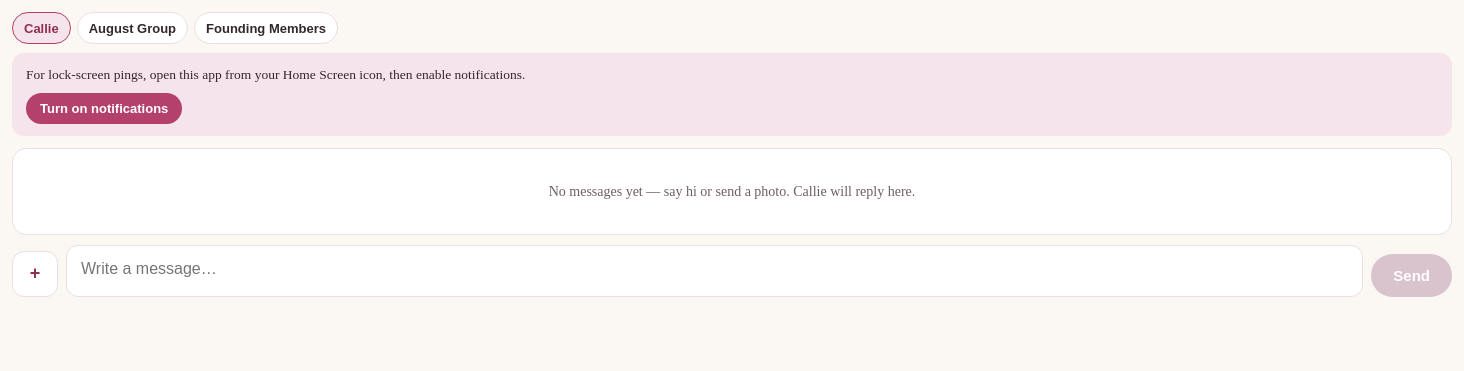
it: opening the Messages tab › loads a group once when its pill is tapped, and not again on return
Click the button "August Group" at (132, 28), box [77,12,188,44]
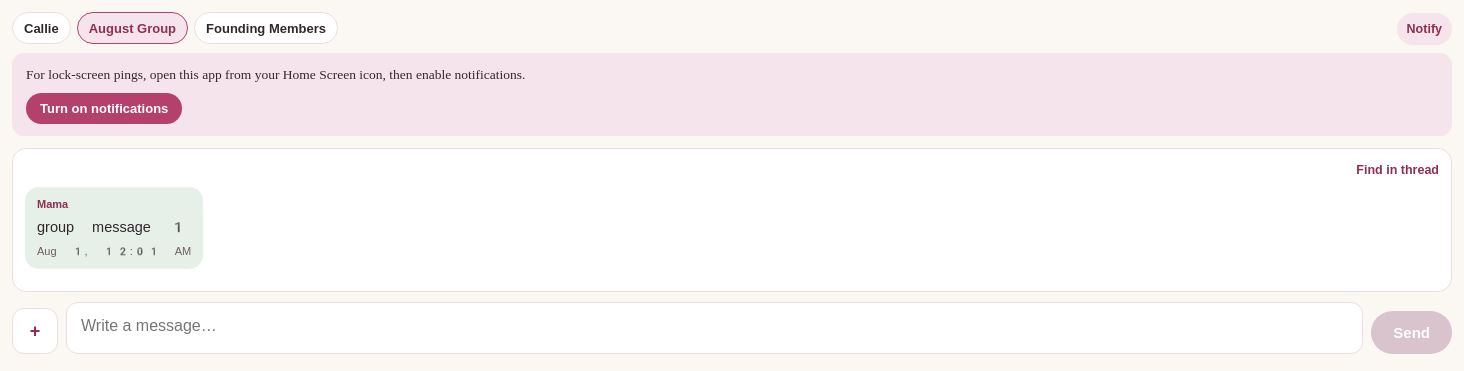
Click the button "Callie" at (41, 28), box [12,12,71,44]
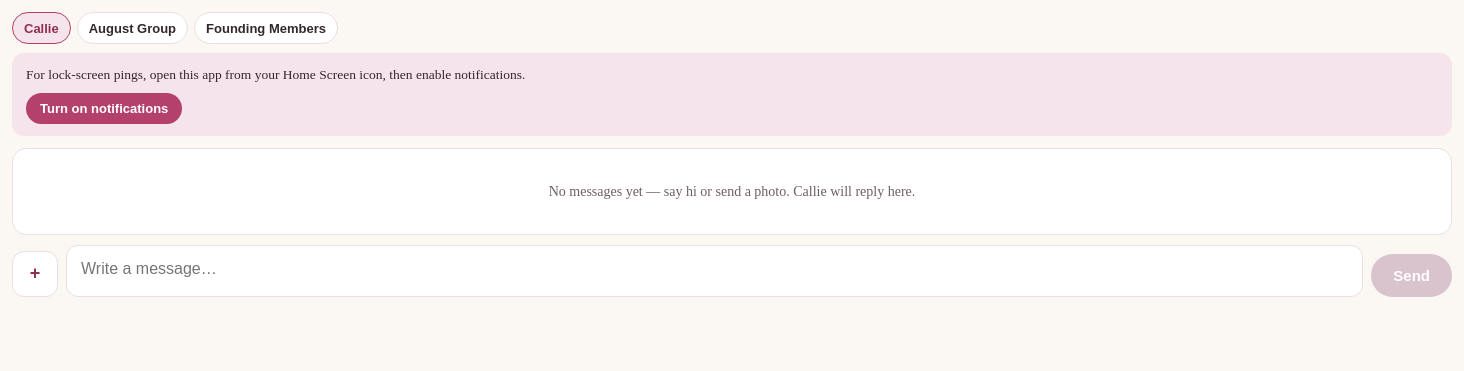
Click the button "August Group" at (132, 28), box [77,12,188,44]
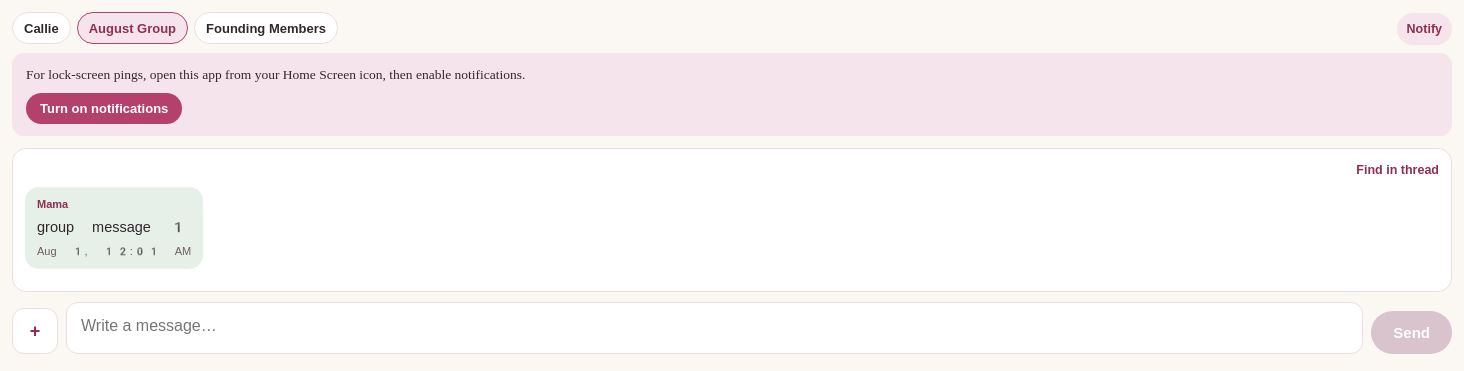
Check: the text "group message 1" is shown, box [37,218,187,236]
